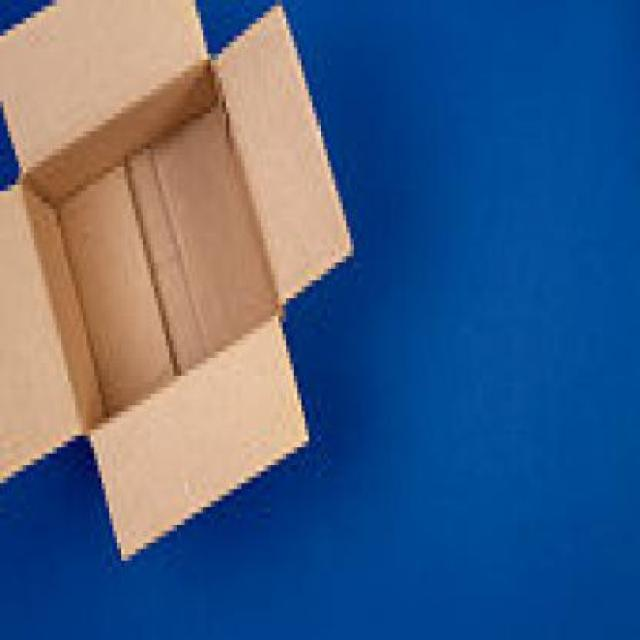box: (1, 0, 372, 611)
